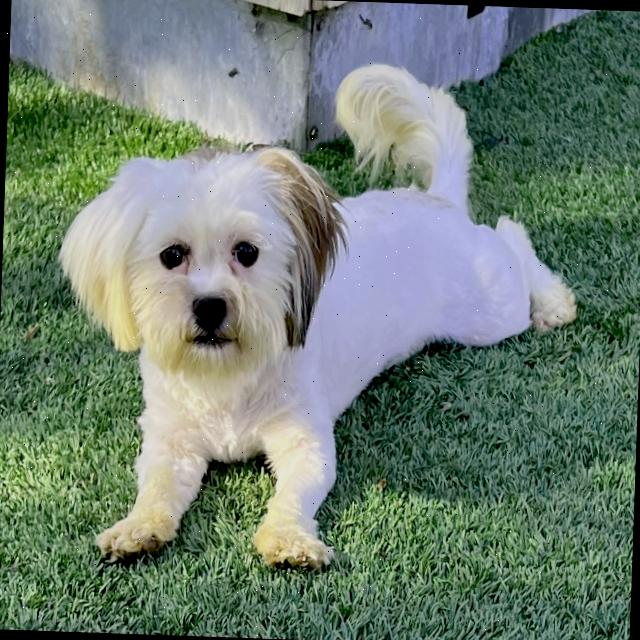shih_tzu_dog: (46, 125, 354, 422)
